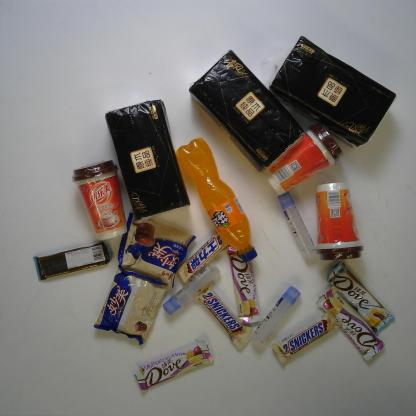Chocolate: (314, 284, 386, 364), (323, 261, 394, 335), (131, 335, 216, 391), (270, 307, 344, 368), (192, 280, 252, 352), (33, 239, 115, 282), (225, 240, 263, 326), (172, 229, 229, 285)
Dessert: (91, 263, 168, 345), (116, 211, 197, 288)
Drink: (174, 135, 259, 263)
Instant Drink: (264, 121, 344, 198), (70, 157, 128, 241), (314, 180, 365, 260)
Stationery: (275, 187, 321, 265), (249, 285, 302, 350), (163, 264, 220, 315)
Tissue: (186, 46, 305, 174), (267, 34, 397, 148), (103, 98, 192, 224)
